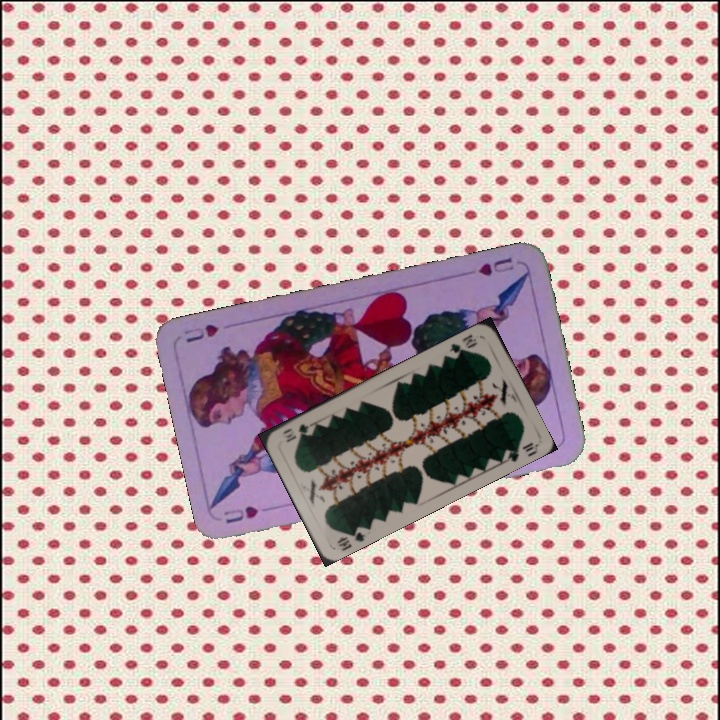G10: (333, 522, 369, 553), (445, 330, 480, 359)
HU: (474, 254, 517, 279), (220, 502, 261, 526)
